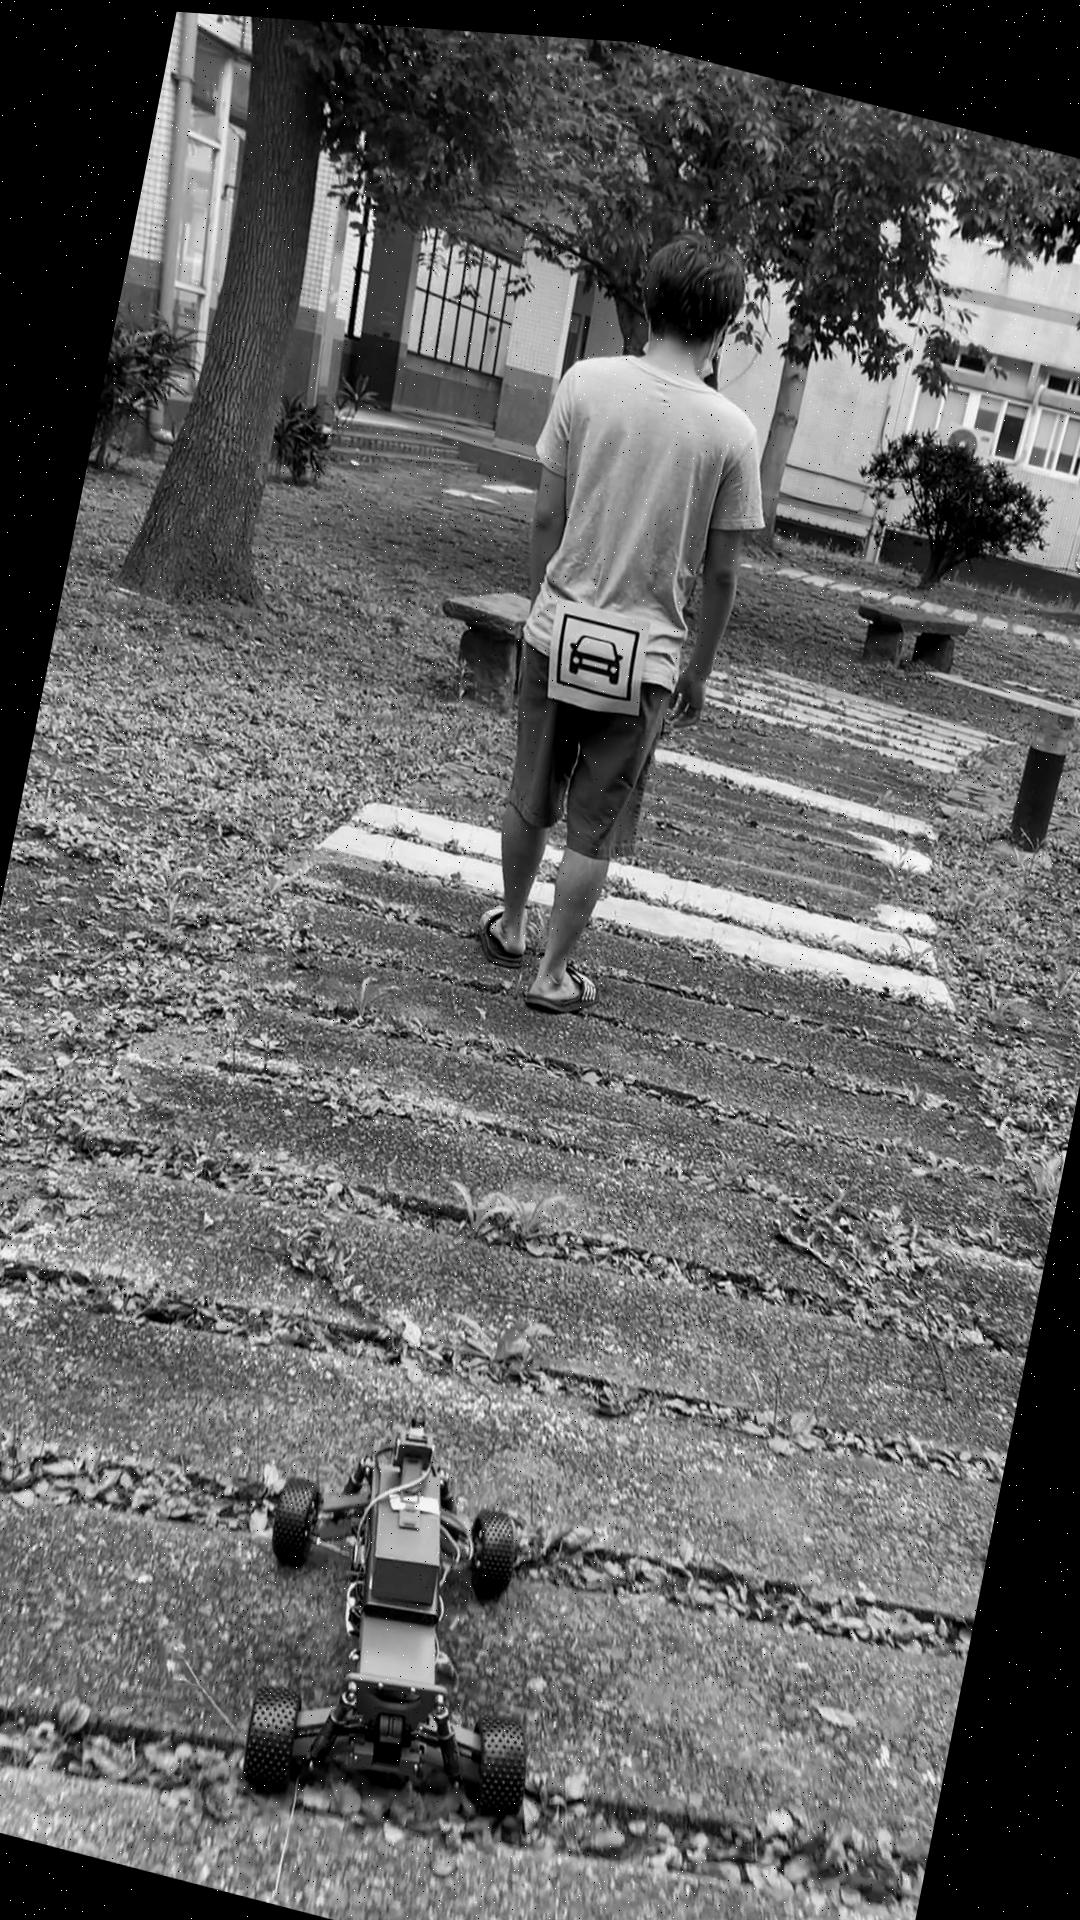car_img: (550, 603, 645, 696)
